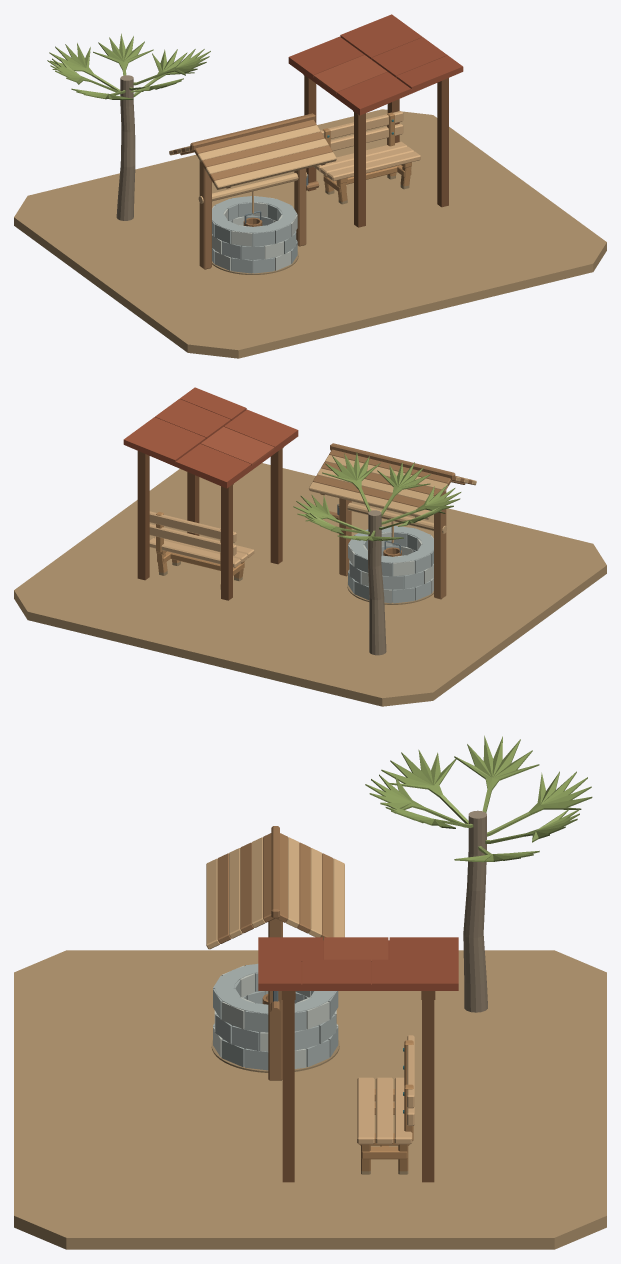
3 views of the same model, one above another, from view 1: azimuth 30°, elevation 25°; view 2: azimuth 150°, elevation 25°; view 3: azimuth 270°, elevation 25° (orthographic). The views are drawn at different scales.
Visible parts, largest first — view 1: SceneEnvironment_SandBase, Well_LeftWaterFace__village-stone-well-01, Canopy_RightRestBay__village-entry-canopy-01, Bench_UnderCanopy__harbor-bench-01, Palm_BackLeft__Trunk_ContinuousUnbranched, Palm_BackLeft__FanLeaf_02, Palm_BackLeft__FanLeaf_03, Palm_BackLeft__FanLeaf_07, Palm_BackLeft__FanLeaf_01, Palm_BackLeft__FanLeaf_04; view 2: SceneEnvironment_SandBase, Canopy_RightRestBay__village-entry-canopy-01, Well_LeftWaterFace__village-stone-well-01, Bench_UnderCanopy__harbor-bench-01, Palm_BackLeft__Trunk_ContinuousUnbranched, Palm_BackLeft__FanLeaf_07, Palm_BackLeft__FanLeaf_06, Palm_BackLeft__FanLeaf_05, Palm_BackLeft__FanLeaf_01; view 3: SceneEnvironment_SandBase, Well_LeftWaterFace__village-stone-well-01, Canopy_RightRestBay__village-entry-canopy-01, Bench_UnderCanopy__harbor-bench-01, Palm_BackLeft__Trunk_ContinuousUnbranched, Palm_BackLeft__FanLeaf_04, Palm_BackLeft__FanLeaf_05, Palm_BackLeft__FanLeaf_03, Palm_BackLeft__FanLeaf_06, Palm_BackLeft__FanLeaf_02.
Boxes of the visible parts, x1,y1,x2,y2 form: SceneEnvironment_SandBase: (14,109,606,358); Well_LeftWaterFace__village-stone-well-01: (169,113,336,273); Canopy_RightRestBay__village-entry-canopy-01: (288,14,463,227); Bench_UnderCanopy__harbor-bench-01: (314,111,420,201); Palm_BackLeft__Trunk_ContinuousUnbranched: (116,75,135,220); Palm_BackLeft__FanLeaf_02: (93,33,153,75); Palm_BackLeft__FanLeaf_03: (49,43,120,90); Palm_BackLeft__FanLeaf_07: (133,49,210,85); Palm_BackLeft__FanLeaf_01: (133,49,194,96); Palm_BackLeft__FanLeaf_04: (47,58,120,92); SceneEnvironment_SandBase: (14,463,606,706); Canopy_RightRestBay__village-entry-canopy-01: (123,387,298,600); Well_LeftWaterFace__village-stone-well-01: (309,443,476,603); Bench_UnderCanopy__harbor-bench-01: (149,511,254,586); Palm_BackLeft__Trunk_ContinuousUnbranched: (368,510,386,655); Palm_BackLeft__FanLeaf_07: (322,452,380,511); Palm_BackLeft__FanLeaf_06: (377,462,430,516); Palm_BackLeft__FanLeaf_05: (381,484,461,524); Palm_BackLeft__FanLeaf_01: (293,495,367,531); SceneEnvironment_SandBase: (14,950,606,1249); Well_LeftWaterFace__village-stone-well-01: (206,826,344,1080); Canopy_RightRestBay__village-entry-canopy-01: (258,937,458,1182); Bench_UnderCanopy__harbor-bench-01: (357,1035,414,1171); Palm_BackLeft__Trunk_ContinuousUnbranched: (463,810,487,1012); Palm_BackLeft__FanLeaf_04: (454,735,539,812); Palm_BackLeft__FanLeaf_05: (381,749,468,823); Palm_BackLeft__FanLeaf_03: (487,771,592,836); Palm_BackLeft__FanLeaf_06: (365,774,468,827); Palm_BackLeft__FanLeaf_02: (485,809,579,843).
Size of the model in its own units: 7.8 by 3.09 by 6.8.
